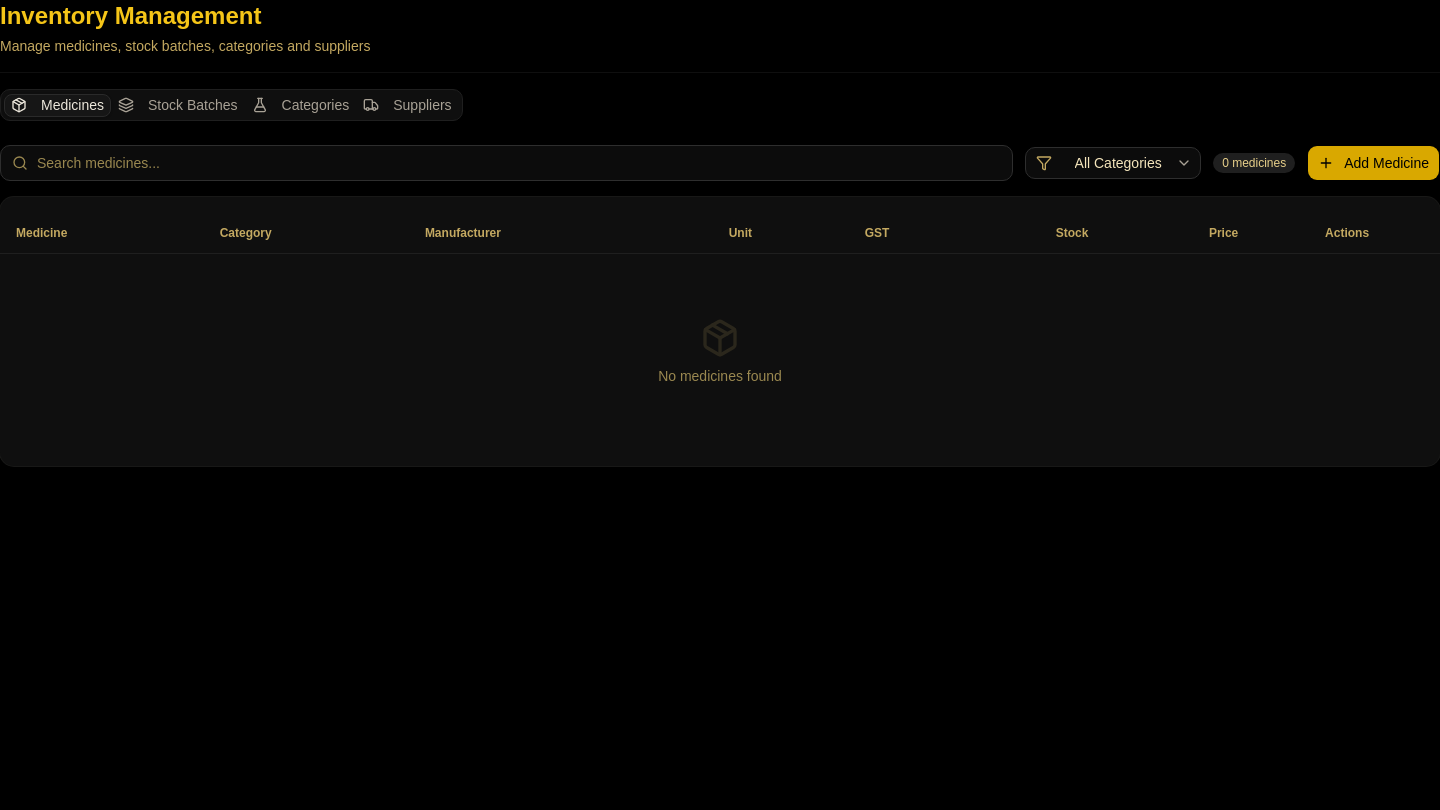
Test: Inventory — the HSN code › offers each code with what it covers
Click the button "Add Medicine": (1374, 163) x1=1307 y1=145 x2=1439 y2=181
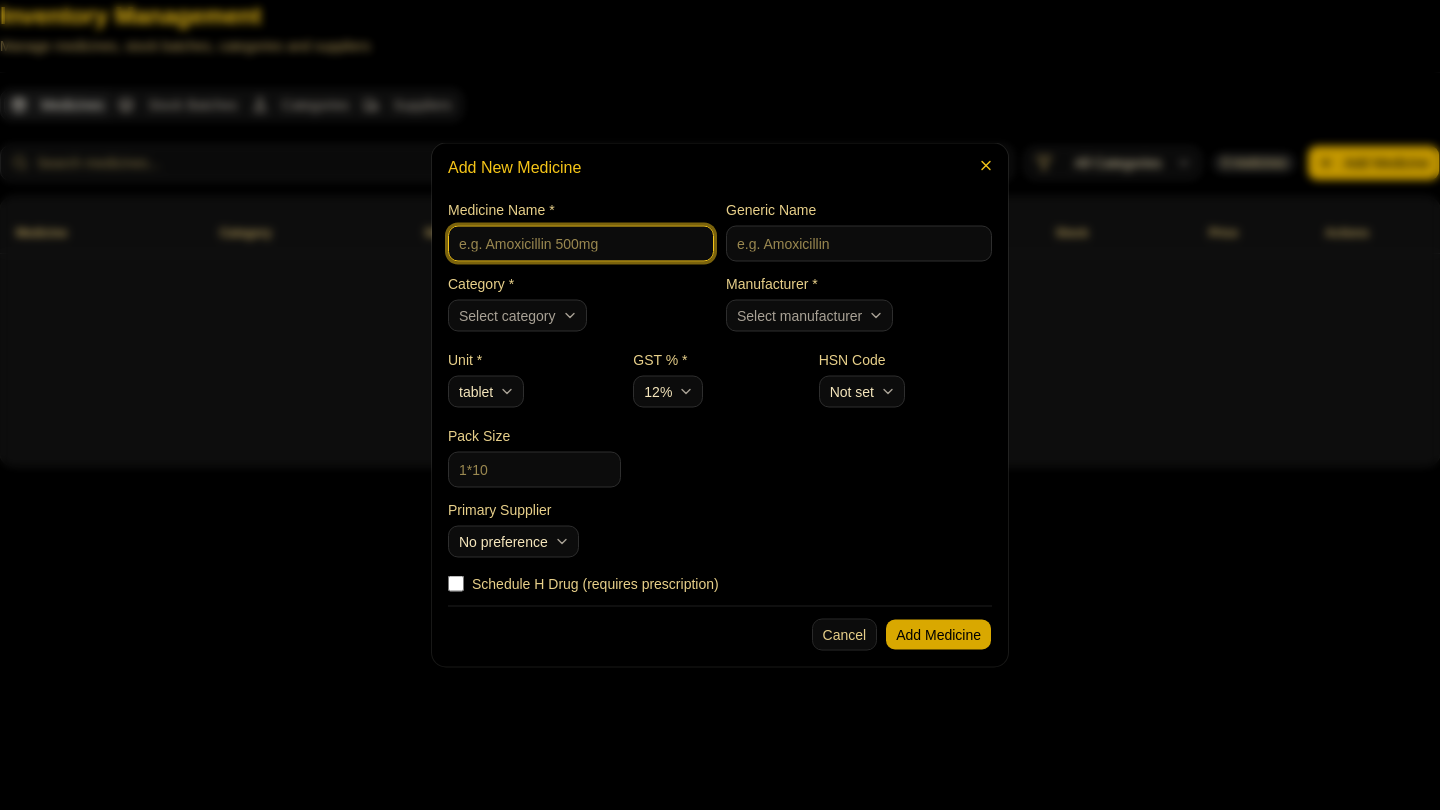
In the field with placeholder "e.g. Amoxicillin 500mg": (581, 244) x1=448 y1=226 x2=714 y2=262, type "Ceftriaxone 1g"
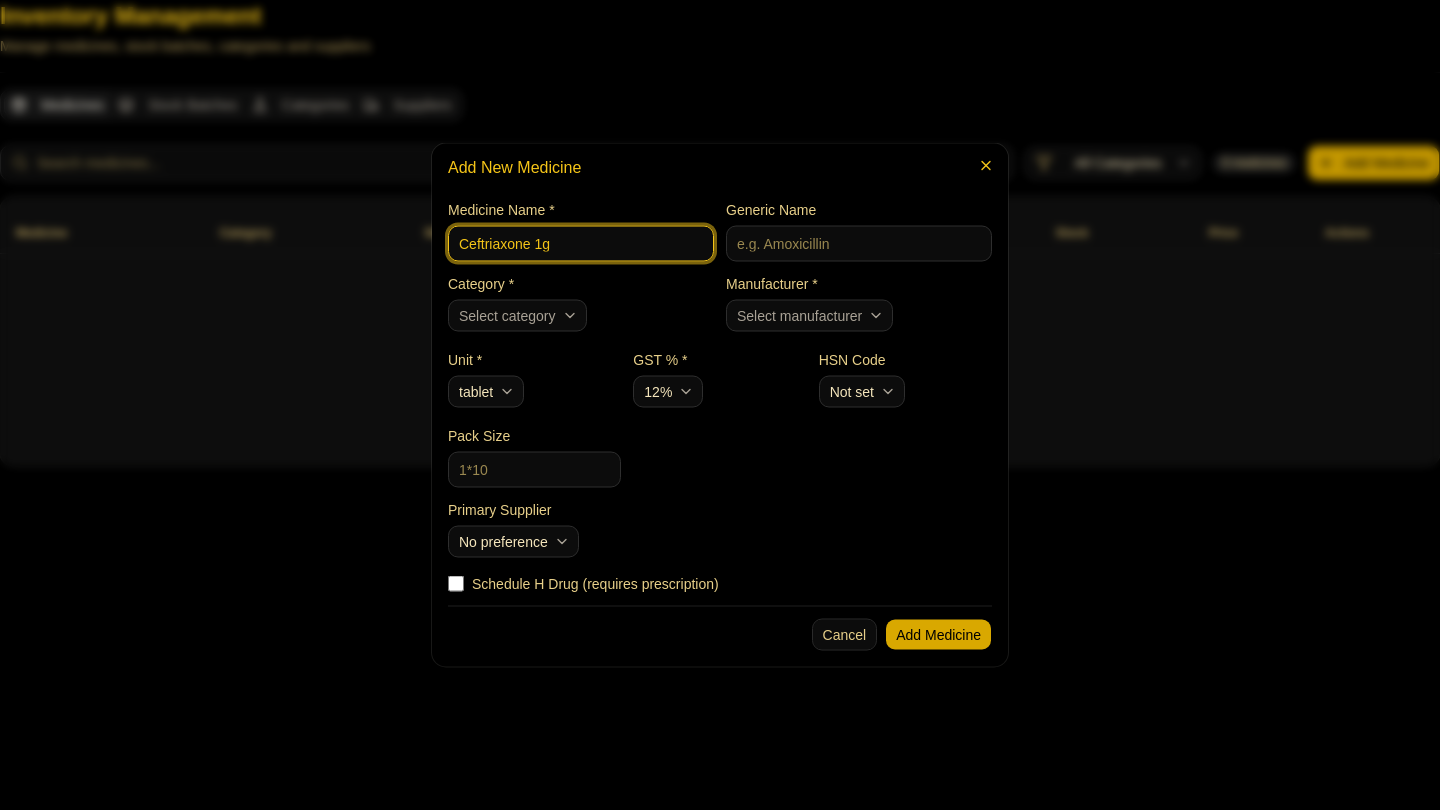
Click the dropdown named "hsn code": (862, 392) x1=819 y1=376 x2=905 y2=408
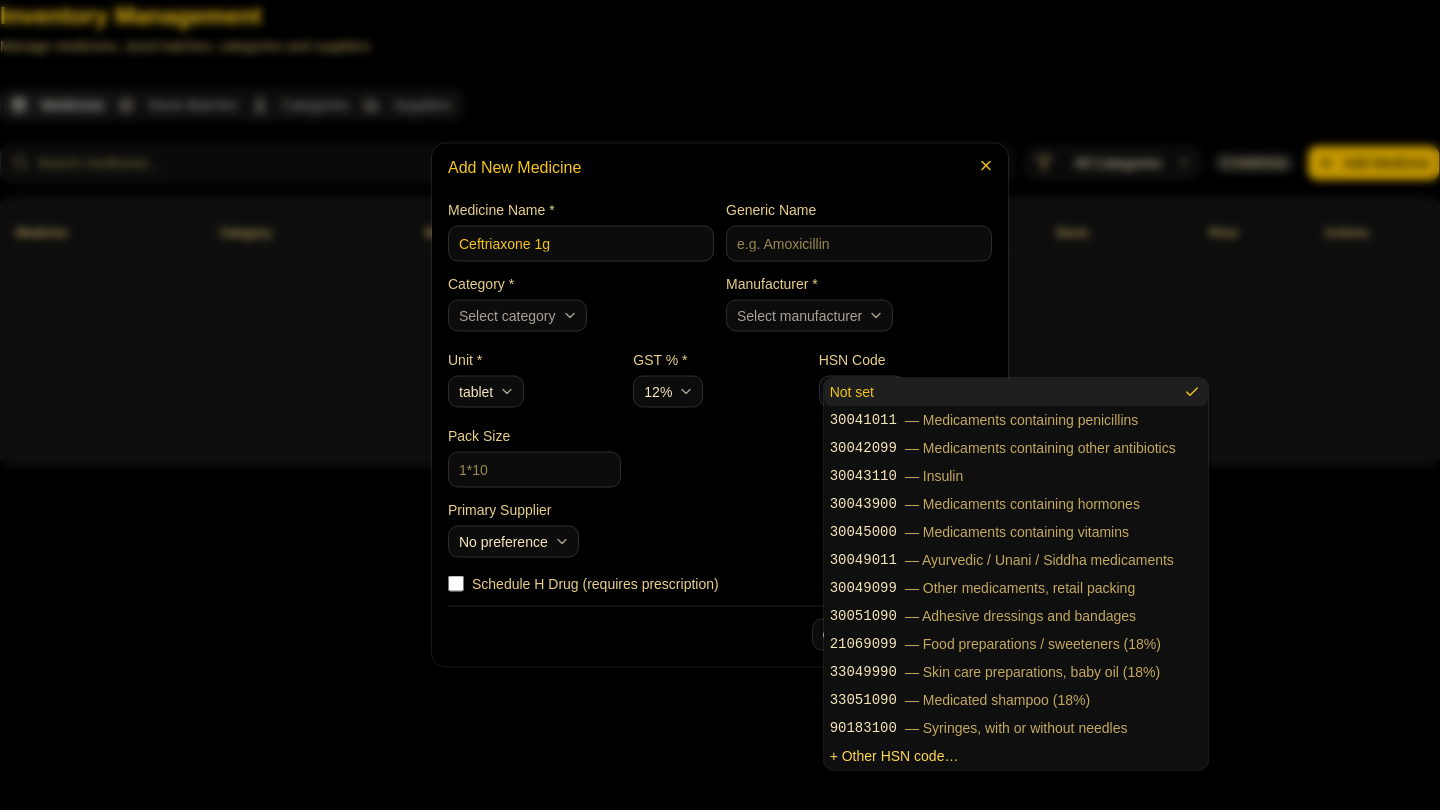
expect the option "30043110 — Insulin" is shown: met, box x1=830 y1=468 x2=963 y2=484
expect the option "30049011 — Ayurvedic / Unani / Siddha medicaments" is shown: met, box x1=830 y1=552 x2=1174 y2=568
